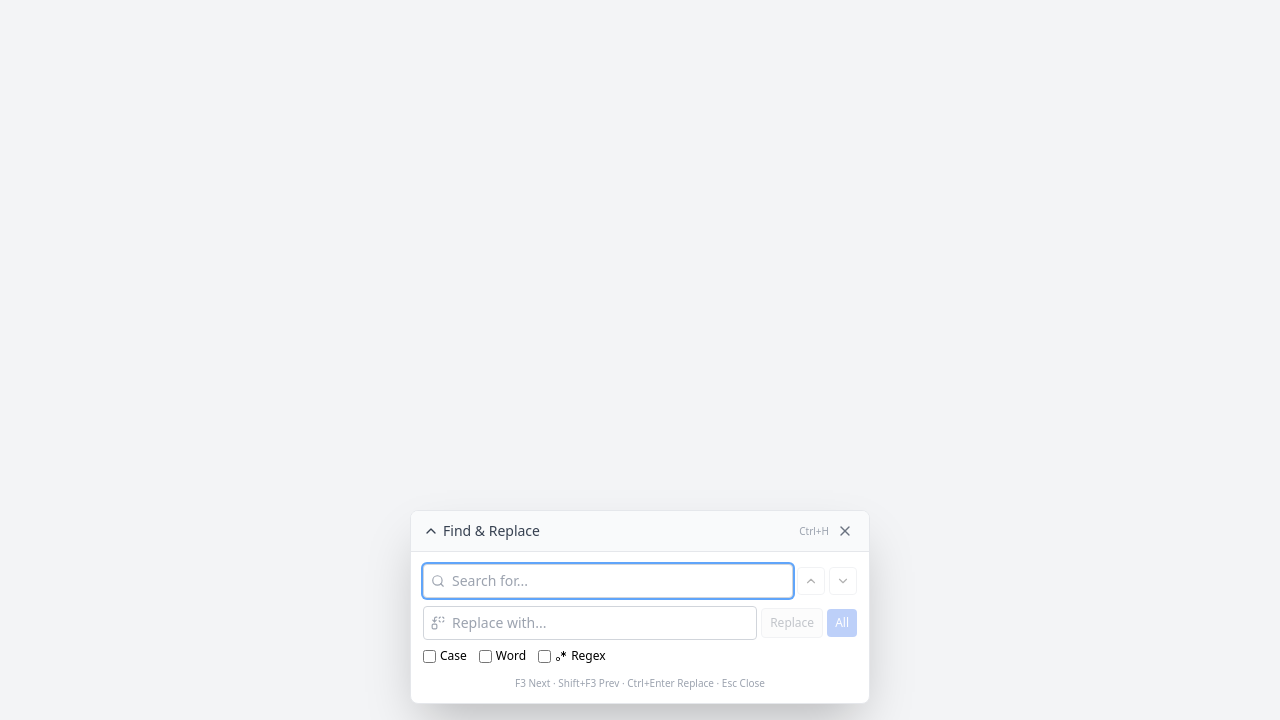
SearchReplaceModal › shows regex placeholder when regex mode is on
The image size is (1280, 720).
Click the checkbox labelled "Regex".
click(545, 656)  # box [538,650,551,662]
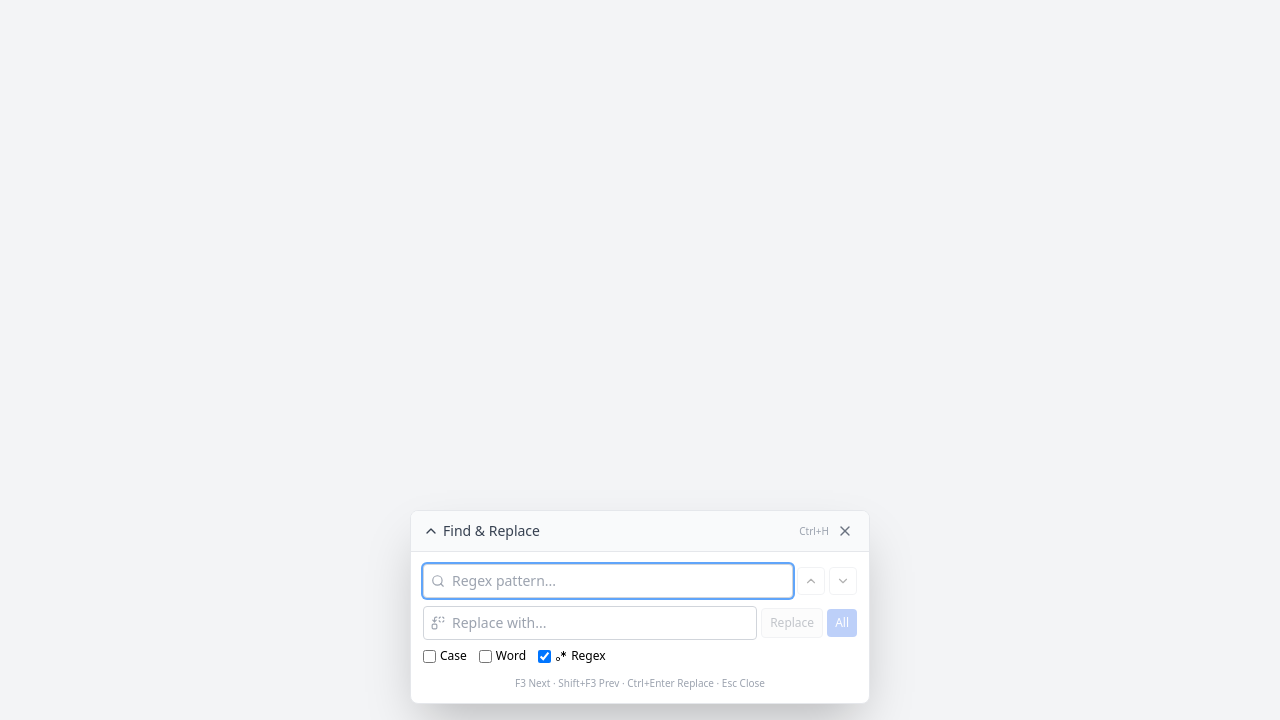
Now the field with placeholder "Regex pattern..." is shown, box [423,564,793,598]
